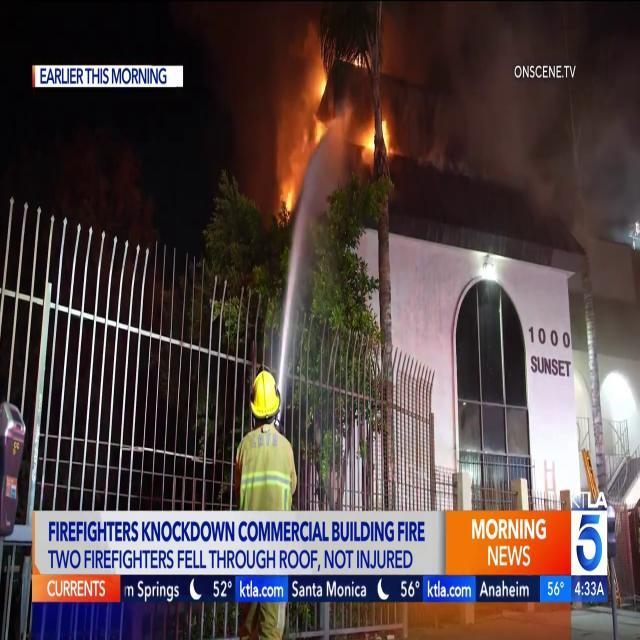Fire: (271, 51, 398, 212)
Smoke: (402, 0, 640, 180)
